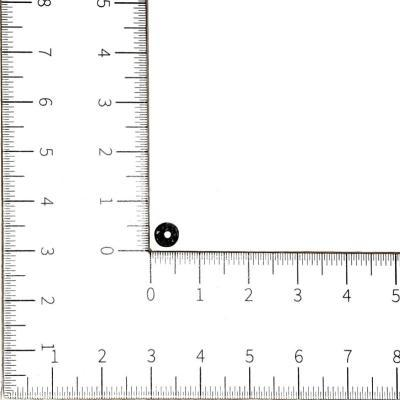archeology: (154, 223, 180, 251)
